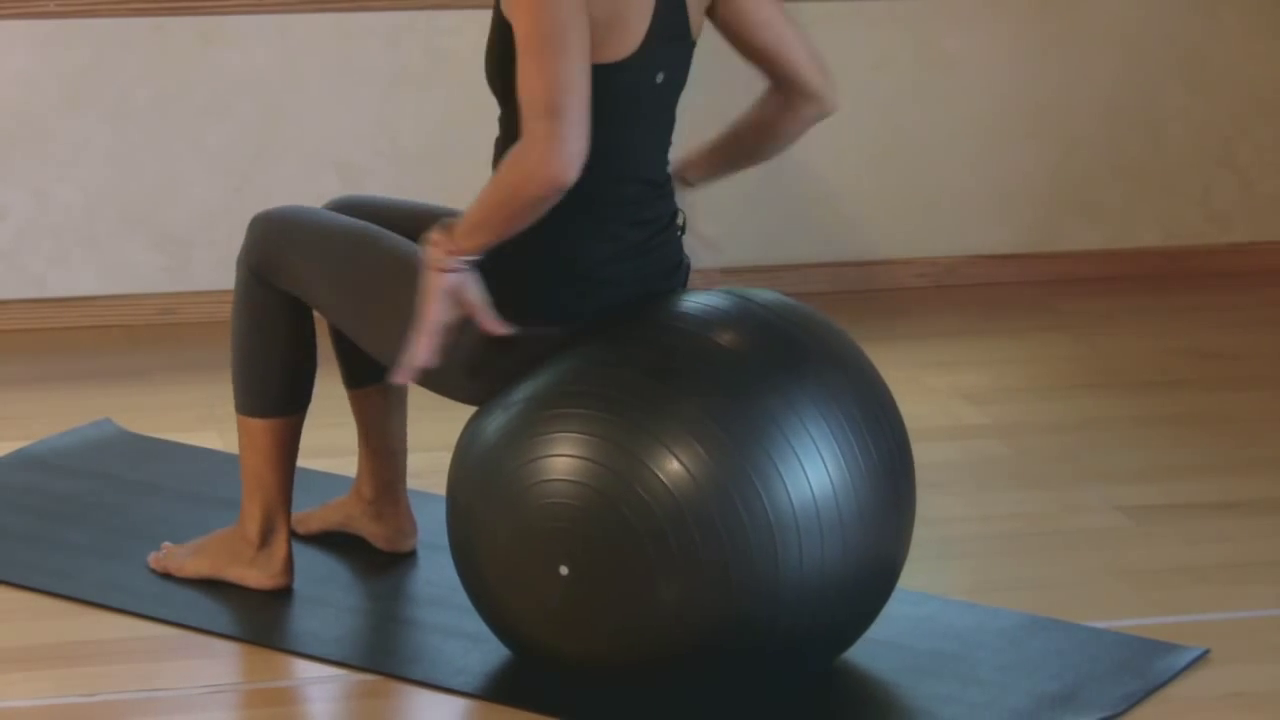yogaball: (441, 283, 929, 706)
